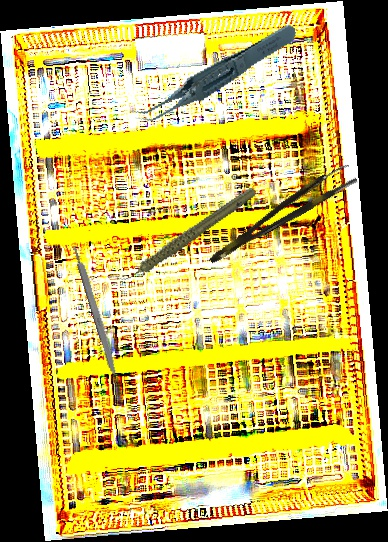Handpiece: (103, 185, 269, 285)
Scalpel Handle: (71, 243, 121, 380)
Tissue Forceps: (118, 22, 309, 126), (201, 161, 359, 266)
